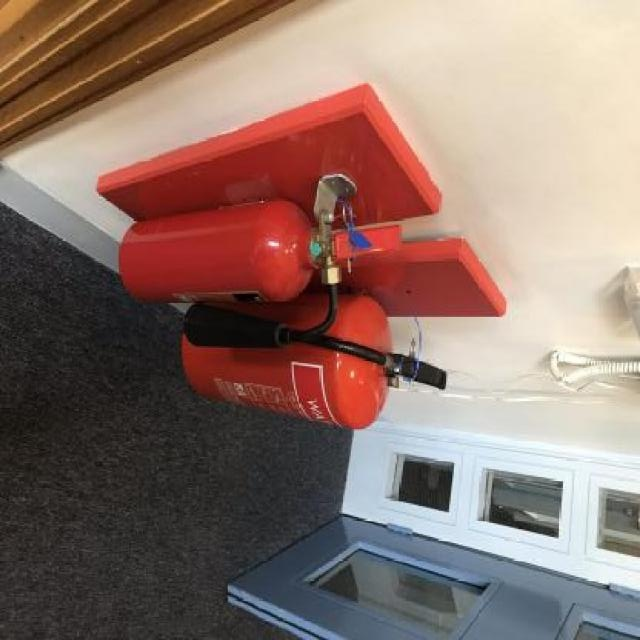fire extinguisher: (119, 197, 404, 349), (180, 292, 448, 430)
